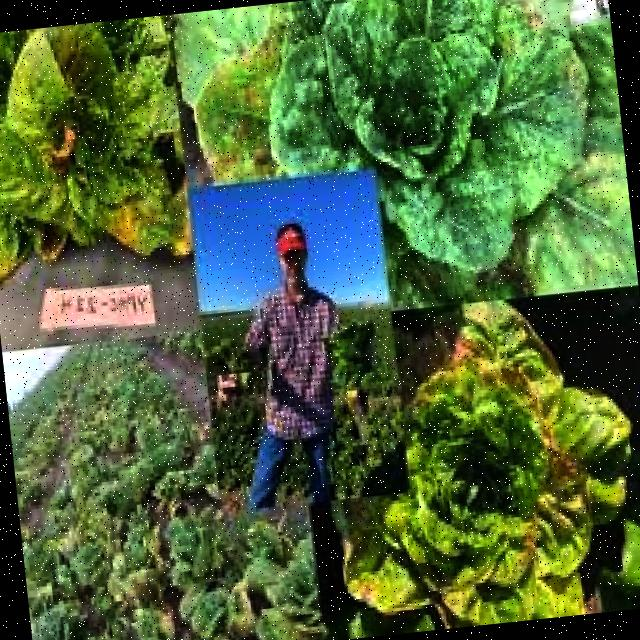Viral: (400, 320, 626, 627), (0, 38, 181, 275)
